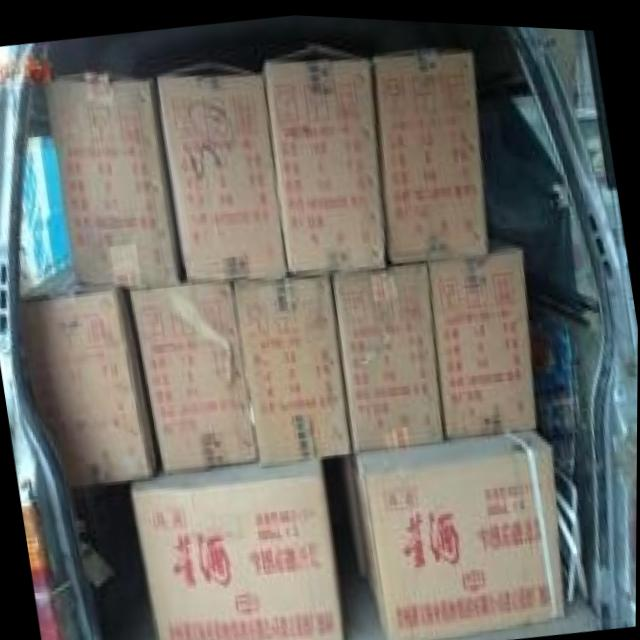box: (354, 428, 566, 640), (133, 456, 346, 640), (20, 262, 159, 489), (43, 70, 181, 286), (261, 40, 388, 272), (155, 57, 286, 278), (374, 42, 491, 263), (130, 278, 259, 475), (429, 230, 538, 436), (234, 270, 350, 463), (331, 258, 447, 447)
